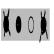correct: (16, 14, 22, 34)
not correct: (39, 9, 48, 43), (3, 8, 11, 38)
